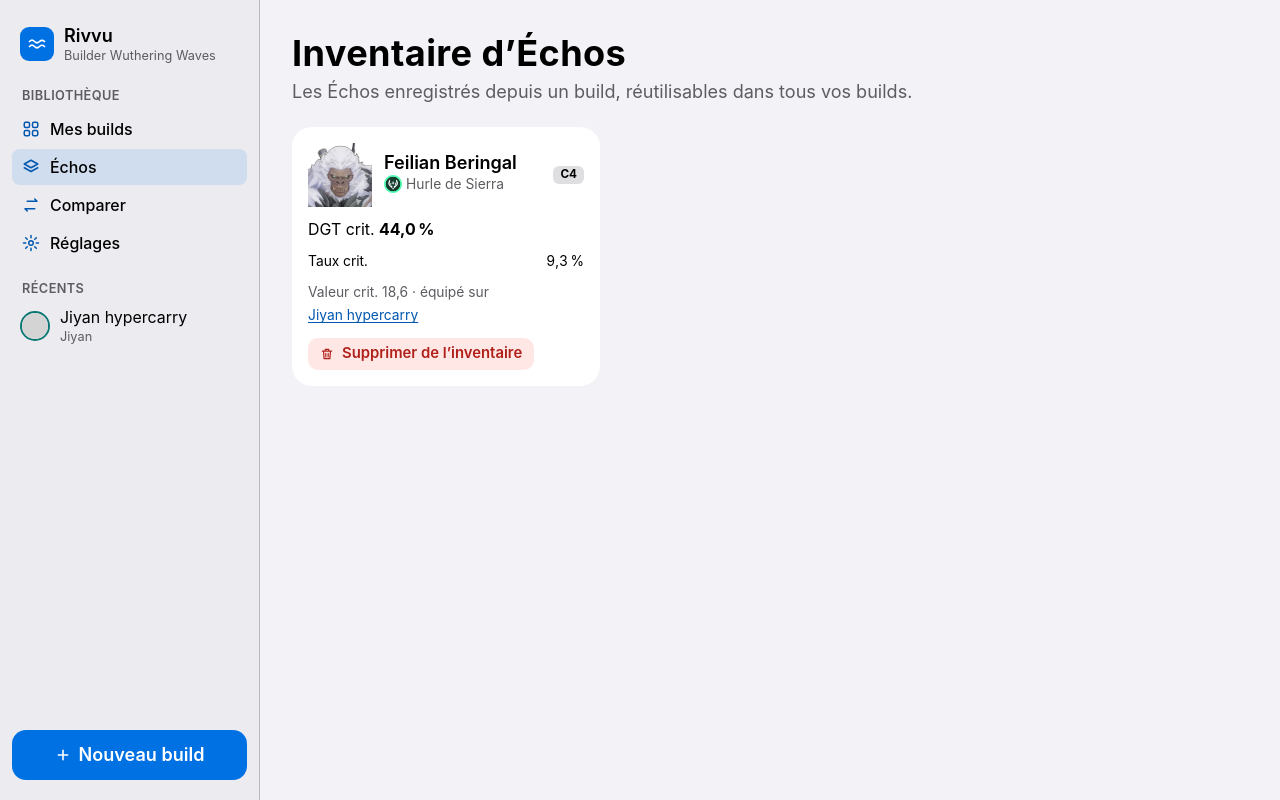
Scenario: inventaire d’Échos › liste les Échos, indique où ils sont équipés et permet de les supprimer
The image size is (1280, 800).
Expected: the heading "Feilian Beringal" is shown, x1=384 y1=152 x2=517 y2=173
Click the button "Supprimer de l’inventaire".
click(421, 354)  # box x1=308 y1=338 x2=534 y2=370
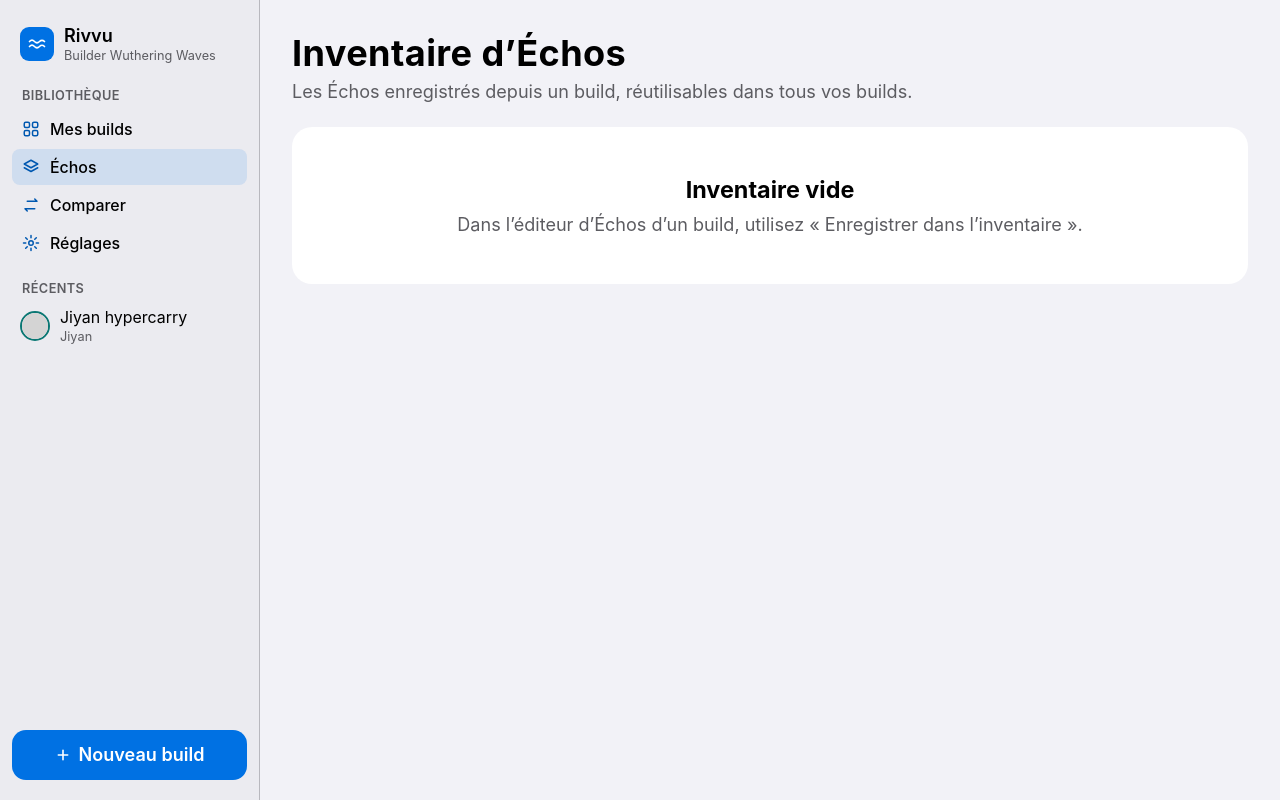
Result: the heading "Inventaire vide" is shown at x1=686 y1=175 x2=854 y2=204
